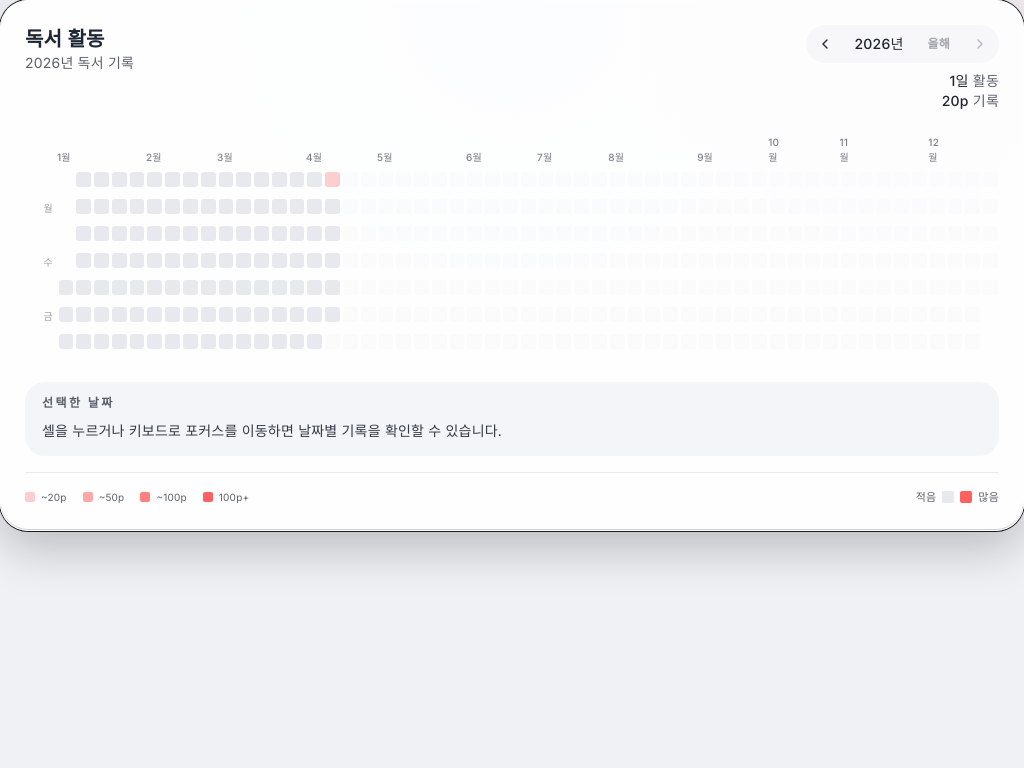
Test: ReadingHeatmap › shows selected day details when a heatmap cell is clicked
The image size is (1024, 768).
Click the button named "2026-04-12에 20페이지를 읽었습니다." at [333, 180], box top-left (325, 172), bottom-right (340, 187)
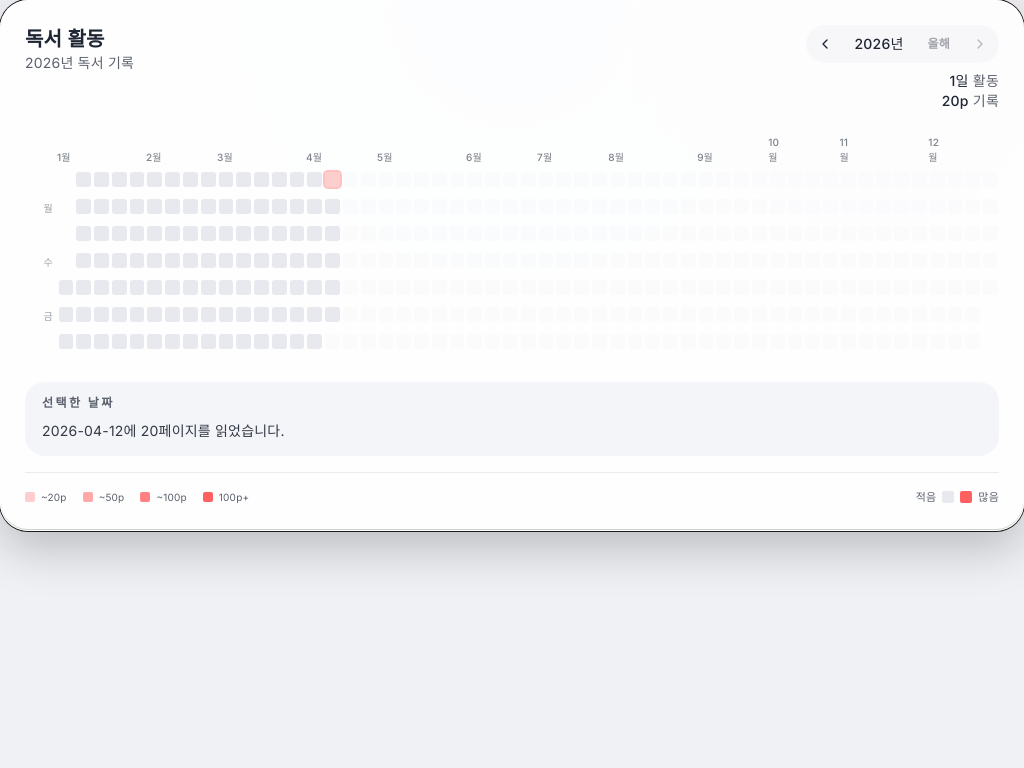
expect the text "2026-04-12에 20페이지를 읽었습니다." is shown: met, box top-left (42, 422), bottom-right (285, 439)
